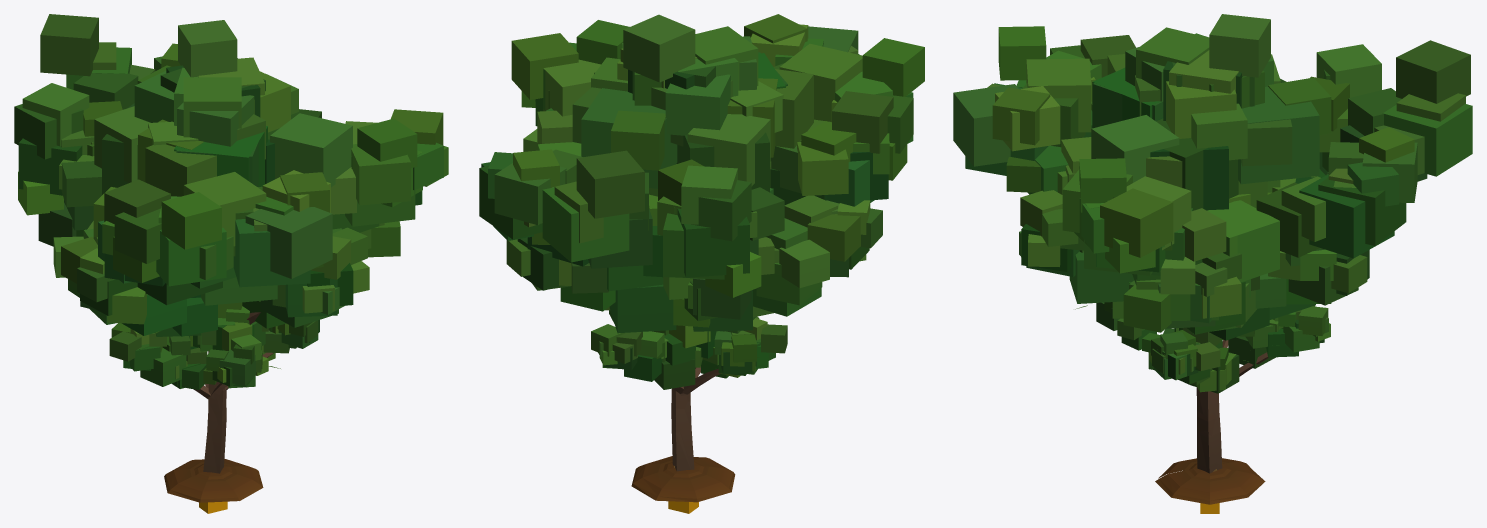
File: mango.glb
3 views of the same model, side by side, from view 1: azimuth 30°, elevation 25°; view 2: azimuth 150°, elevation 25°; view 3: azimuth 270°, elevation 25° (orthographic). The views are drawn at different scales.
Visible parts, largest first — view 1: stage4_foliage, stage4_l1_foliage, stage3_foliage, stage2_foliage, stage2_soil, stage2_l1_foliage, stage4_l1_bark, stage3_l1_foliage, stage4_bark; view 2: stage4_foliage, stage4_l1_foliage, stage3_foliage, stage2_foliage, stage3_l1_foliage, stage2_soil, stage2_l1_foliage, stage4_bark, stage4_l1_bark; view 3: stage4_foliage, stage4_l1_foliage, stage3_foliage, stage2_foliage, stage3_l1_foliage, stage2_soil, stage2_l1_foliage, stage4_bark, stage4_l1_bark.
Boxes of the visible parts, x1,y1,x2,y2 form: stage4_foliage: (14,20,443,305); stage4_l1_foliage: (40,14,448,305); stage3_foliage: (18,171,400,336); stage2_foliage: (109,302,319,389); stage2_soil: (164,458,263,502); stage2_l1_foliage: (111,306,317,388); stage4_l1_bark: (203,383,226,473); stage3_l1_foliage: (53,229,201,336); stage4_bark: (207,351,226,472); stage4_foliage: (479,14,913,291); stage4_l1_foliage: (521,38,924,277); stage3_foliage: (506,129,882,333); stage2_foliage: (591,316,787,389); stage3_l1_foliage: (753,218,829,316); stage2_soil: (631,456,735,502); stage2_l1_foliage: (605,307,756,378); stage4_bark: (671,388,691,471); stage4_l1_bark: (671,386,694,469); stage4_foliage: (953,14,1417,284); stage4_l1_foliage: (998,26,1472,290); stage3_foliage: (1019,172,1369,339); stage2_foliage: (1096,301,1330,393); stage3_l1_foliage: (1187,252,1286,340); stage2_soil: (1155,458,1265,504); stage2_l1_foliage: (1152,328,1239,393); stage4_bark: (1196,387,1222,473); stage4_l1_bark: (1197,393,1219,471).
Size of the model in its own units: 2.07 by 2.48 by 2.4.
